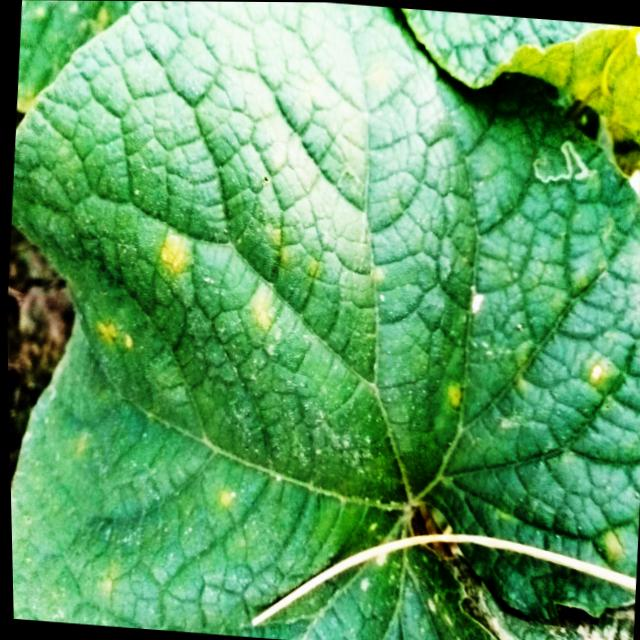Downy-Mildew: (8, 1, 640, 640)
